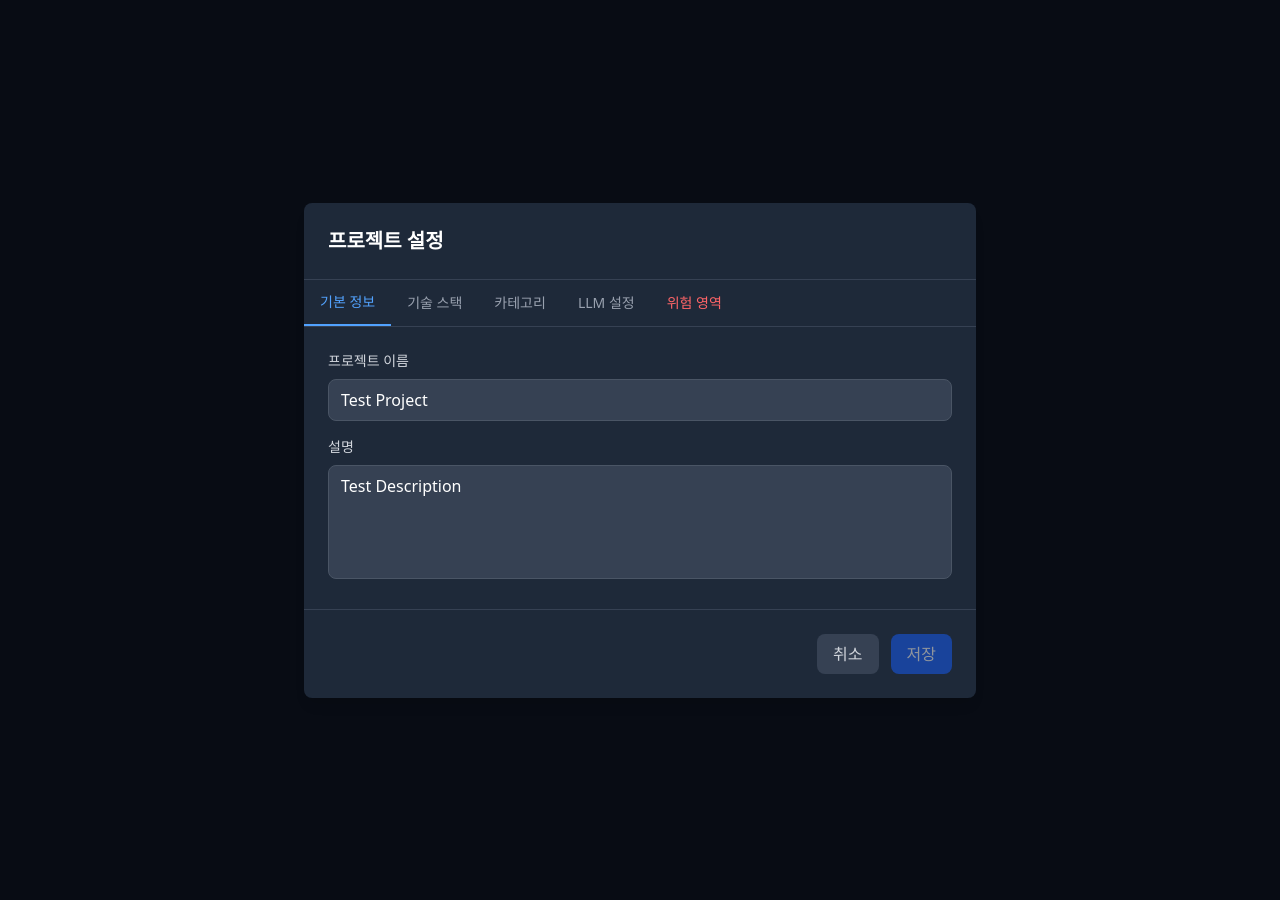
ProjectSettingsModal › Tech Stack Tab › should show tech stack tab content when clicked
Click the tab "기술 스택": click(435, 302) top-left (391, 280), bottom-right (478, 326)
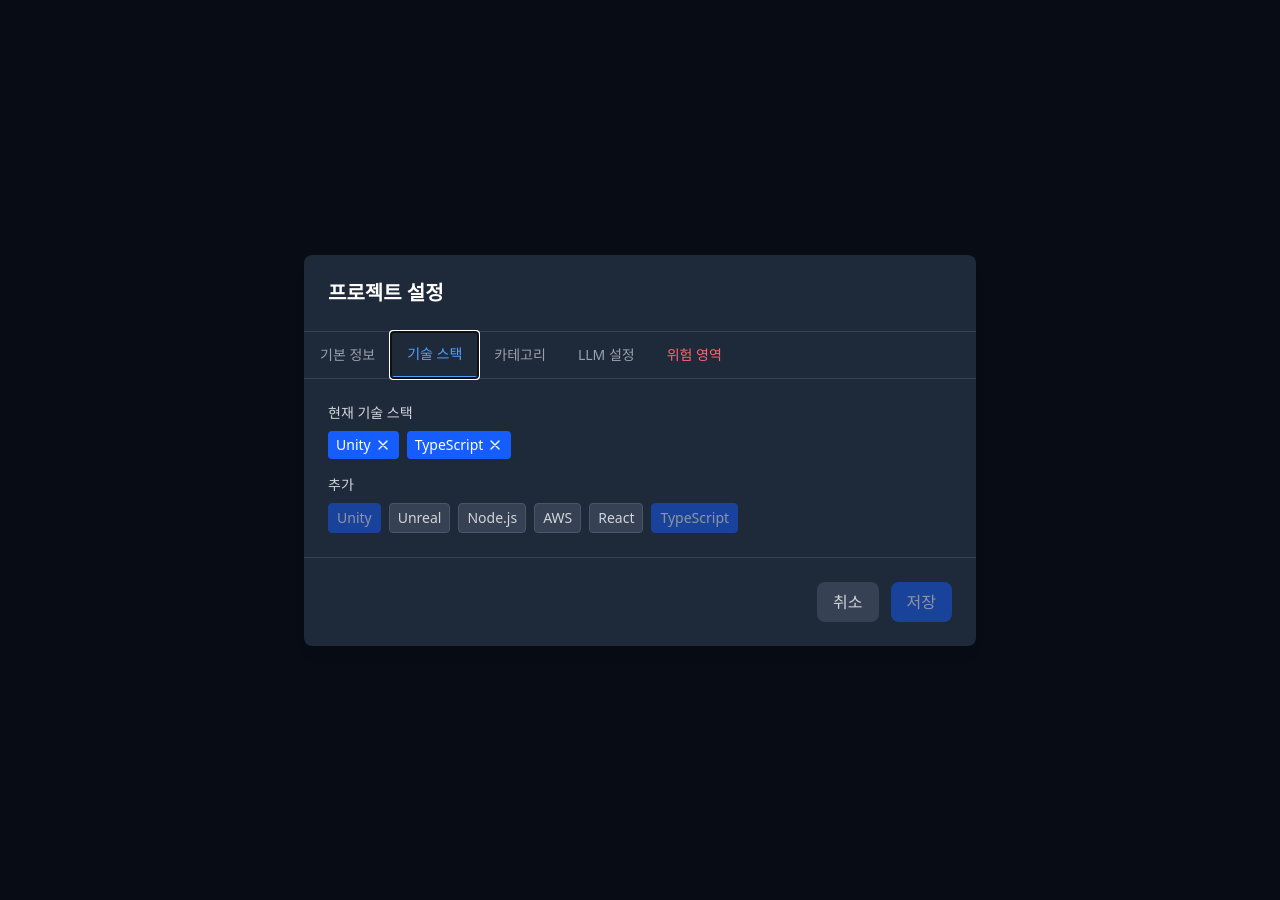
Expected: the button named "remove Unity" is shown, top-left (375, 436), bottom-right (391, 452)
Expected: the button named "remove TypeScript" is shown, top-left (487, 436), bottom-right (503, 452)
